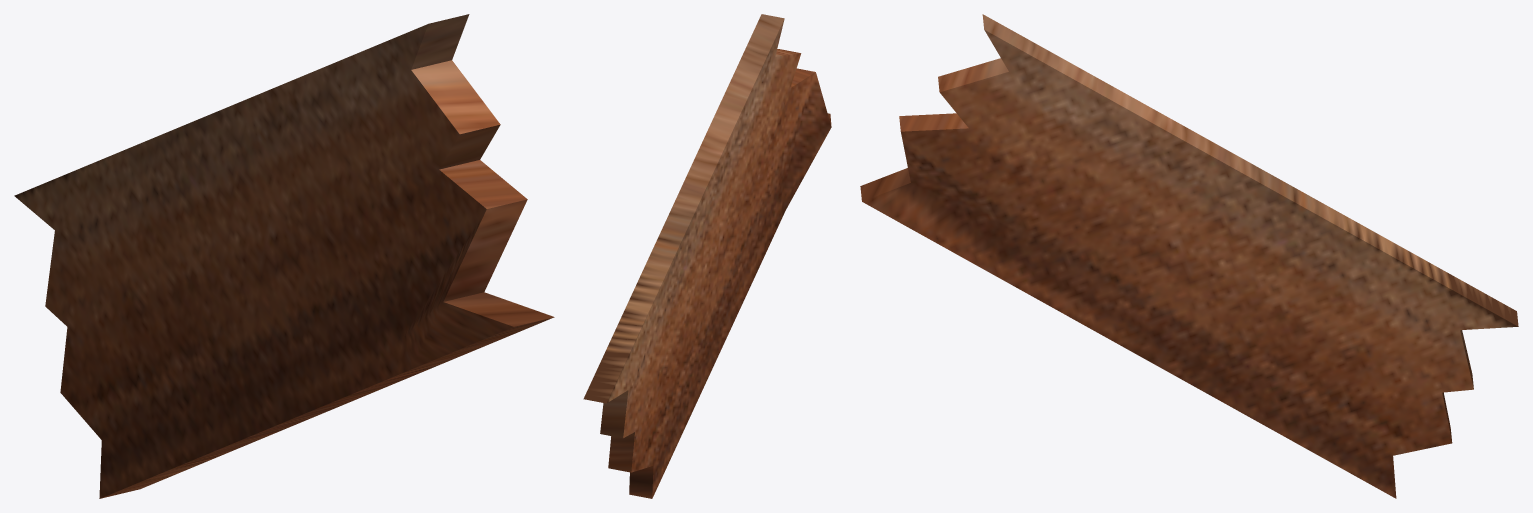
The model's file is Broken_Wood_Piece.fbx.
3 views of the same model, side by side, from view 1: azimuth 30°, elevation 25°; view 2: azimuth 150°, elevation 25°; view 3: azimuth 270°, elevation 25° (orthographic). The views are drawn at different scales.
Parts seen in each view (by area): view 1: pCube18; view 2: pCube18; view 3: pCube18.
Boxes of the visible parts, x1,y1,x2,y2 form: pCube18: (14, 14, 554, 498); pCube18: (583, 14, 831, 498); pCube18: (860, 14, 1518, 498).
Size of the model in its own units: 0.0322 by 0.2513 by 0.3093.
